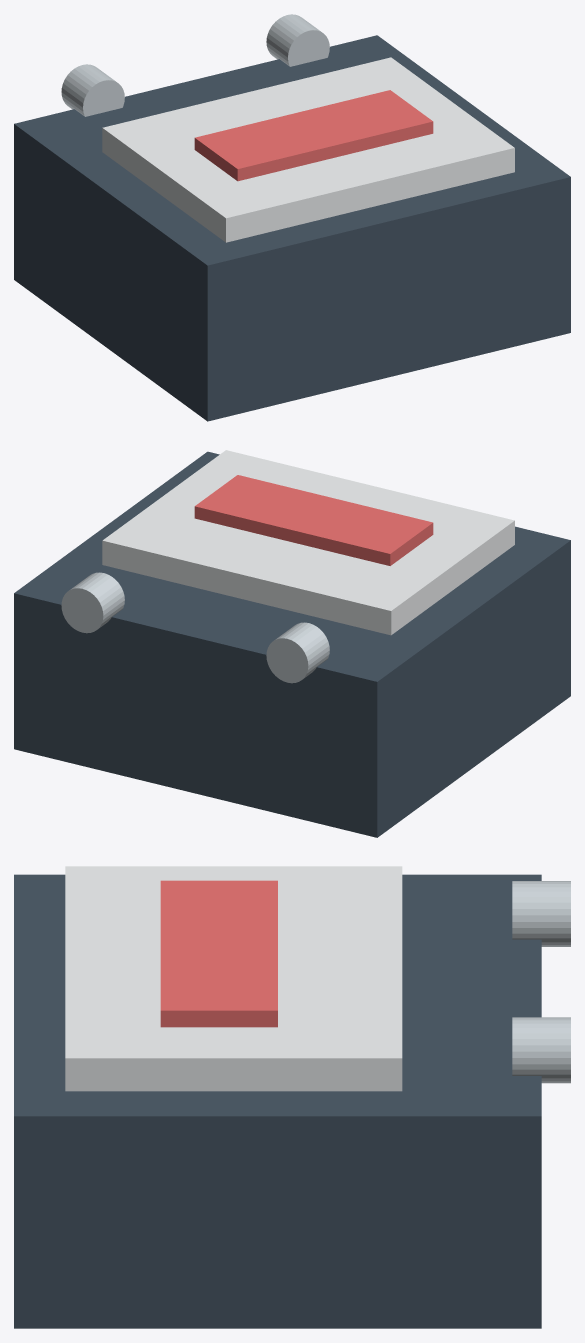
Rendered from digital_meter.glb.
The picture shows the model from 3 angles, top to bottom: view 1: azimuth 30°, elevation 25°; view 2: azimuth 150°, elevation 25°; view 3: azimuth 270°, elevation 25°; orthographic projection. The views are drawn at different scales.
Parts seen in each view (by area): view 1: digital_meter_0, digital_meter_1, digital_meter_2, digital_meter_3, digital_meter_4; view 2: digital_meter_0, digital_meter_1, digital_meter_2, digital_meter_3, digital_meter_4; view 3: digital_meter_0, digital_meter_1, digital_meter_2, digital_meter_4, digital_meter_3.
Boxes of the visible parts, <box> form: digital_meter_0: <box>14,35,570,421</box>; digital_meter_1: <box>102,57,514,242</box>; digital_meter_2: <box>194,90,433,181</box>; digital_meter_3: <box>61,64,124,116</box>; digital_meter_4: <box>266,14,329,66</box>; digital_meter_0: <box>14,451,570,837</box>; digital_meter_1: <box>102,450,514,635</box>; digital_meter_2: <box>194,475,433,565</box>; digital_meter_3: <box>266,622,329,683</box>; digital_meter_4: <box>61,572,124,633</box>; digital_meter_0: <box>14,874,541,1328</box>; digital_meter_1: <box>65,866,402,1091</box>; digital_meter_2: <box>160,880,277,1027</box>; digital_meter_4: <box>512,1017,570,1083</box>; digital_meter_3: <box>512,881,570,946</box>.
Bounding box in the file's own units: 0.78 × 0.395 × 0.76.
